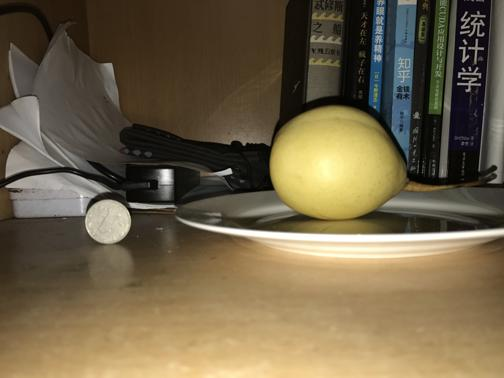coin: (84, 197, 132, 244)
pear: (271, 106, 409, 219)
